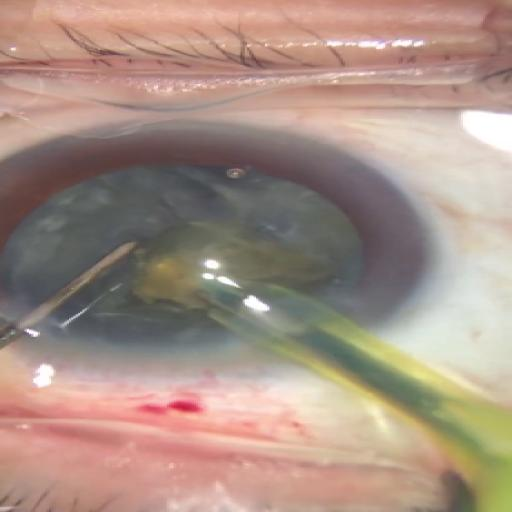catarata: (8, 165, 366, 364)
cornea: (0, 114, 436, 372)
pupil: (15, 162, 377, 365)
